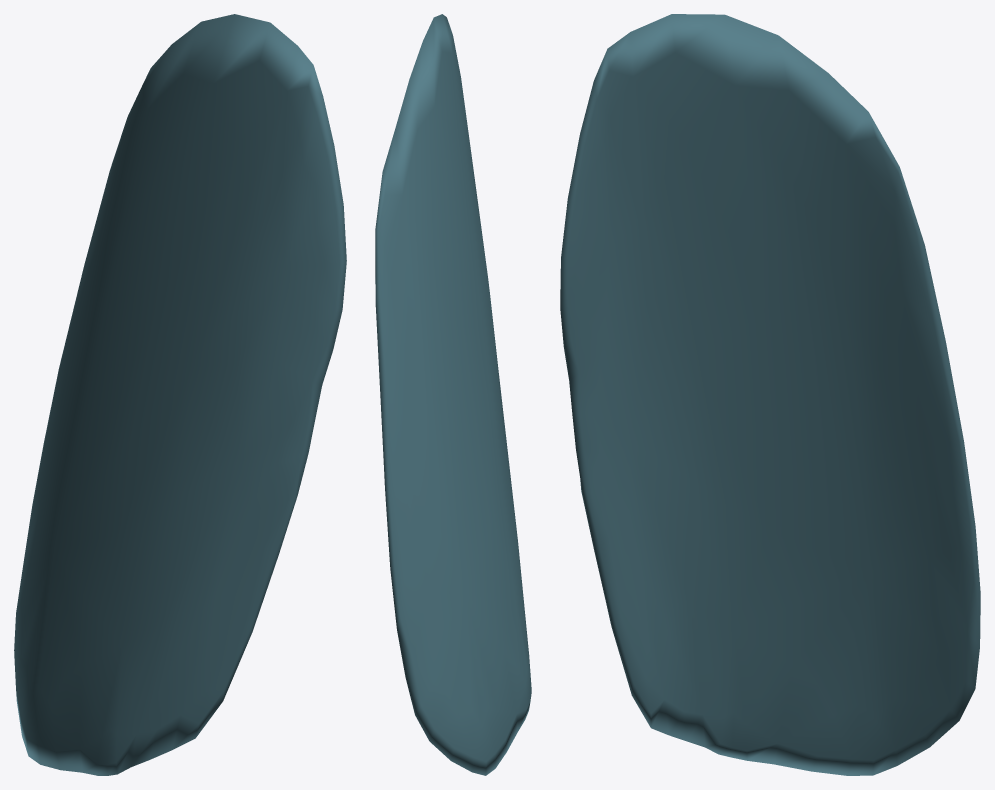
File: Deltoid_humeral_insertion_right.glb
3 renders of one model, left to right at view 1: azimuth 30°, elevation 25°; view 2: azimuth 150°, elevation 25°; view 3: azimuth 270°, elevation 25°, orthographic. The views are drawn at different scales.
Parts seen in each view (by area): view 1: Deltoid_muscle-Humeral_insertion.r_Generated_Mesh_From_X3D.6; view 2: Deltoid_muscle-Humeral_insertion.r_Generated_Mesh_From_X3D.6; view 3: Deltoid_muscle-Humeral_insertion.r_Generated_Mesh_From_X3D.6.
Boxes of the visible parts, x1,y1,x2,y2 form: Deltoid_muscle-Humeral_insertion.r_Generated_Mesh_From_X3D.6: [14, 14, 346, 775]; Deltoid_muscle-Humeral_insertion.r_Generated_Mesh_From_X3D.6: [375, 14, 531, 775]; Deltoid_muscle-Humeral_insertion.r_Generated_Mesh_From_X3D.6: [560, 14, 980, 775].
Size of the model in its own units: 0.0101 by 0.0413 by 0.0187.
